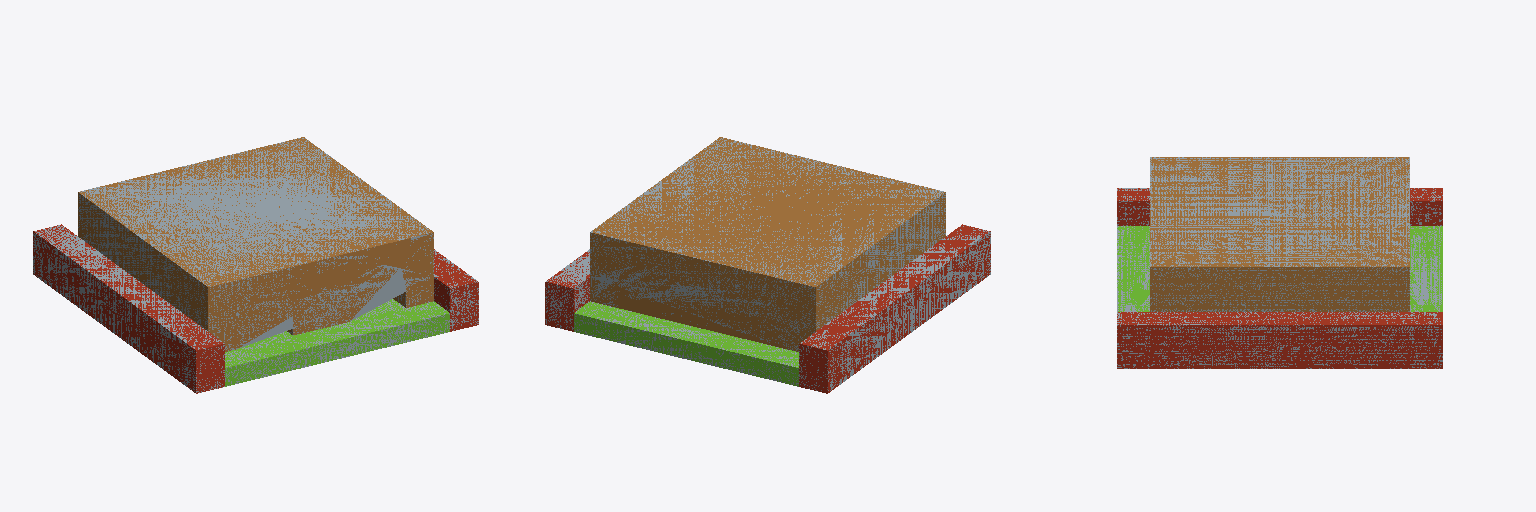
The model's file is Tunnel_double_01.obj.
The picture shows the model from 3 angles: view 1: azimuth 30°, elevation 25°; view 2: azimuth 150°, elevation 25°; view 3: azimuth 270°, elevation 25°; orthographic projection.
Visible parts, largest first — view 1: Mesh1 Tunnel_double Model; view 2: Mesh1 Tunnel_double Model; view 3: Mesh1 Tunnel_double Model.
Boxes of the visible parts, x1=… form: Mesh1 Tunnel_double Model: x1=33, y1=137, x2=478, y2=393; Mesh1 Tunnel_double Model: x1=545, y1=137, x2=990, y2=393; Mesh1 Tunnel_double Model: x1=1117, y1=157, x2=1442, y2=368.
Size of the model in its own units: 3 by 0.89 by 3.